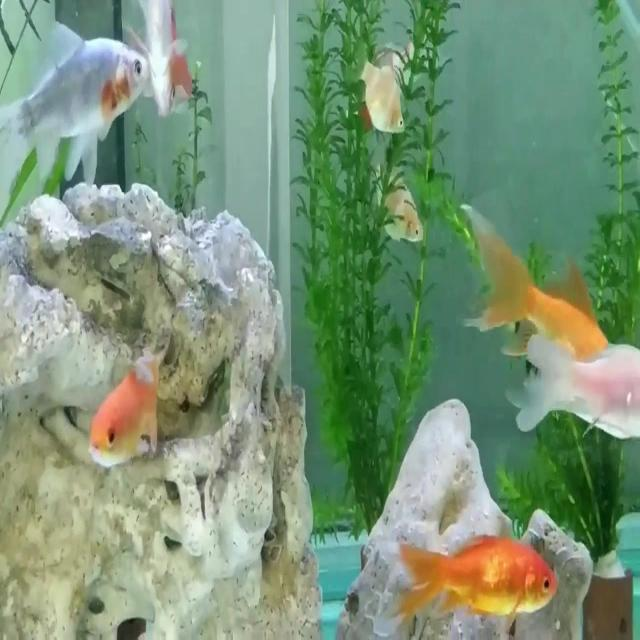GoldFish: (467, 205, 612, 368), (388, 526, 561, 633), (82, 349, 168, 480)
